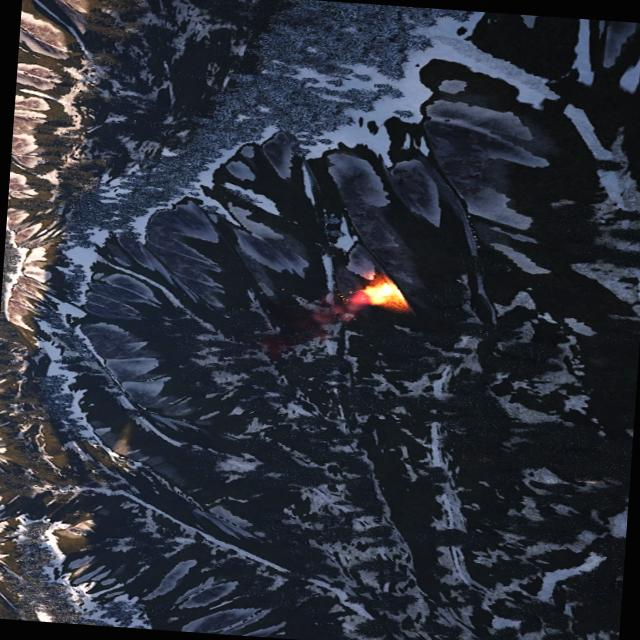fire: (358, 276, 409, 308)
smoke: (260, 286, 370, 362)
